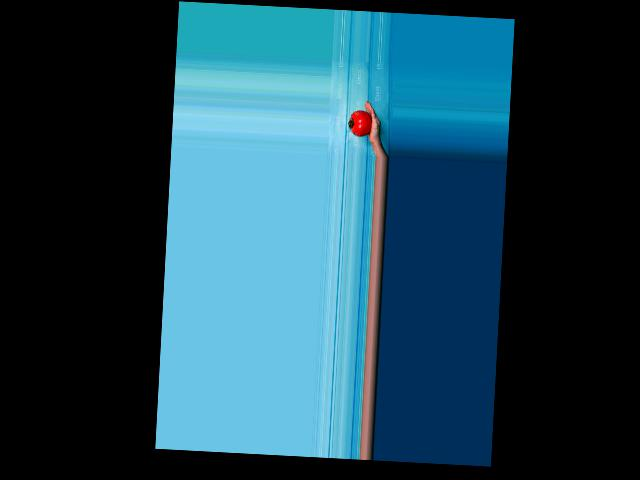tomato: (348, 109, 372, 136)
